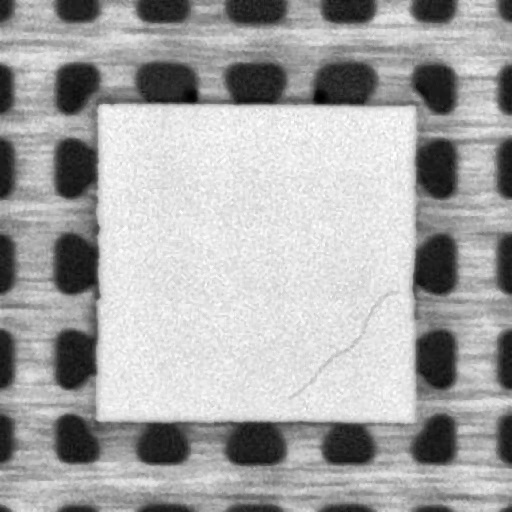DIE_CRACK: (286, 288, 400, 400)
